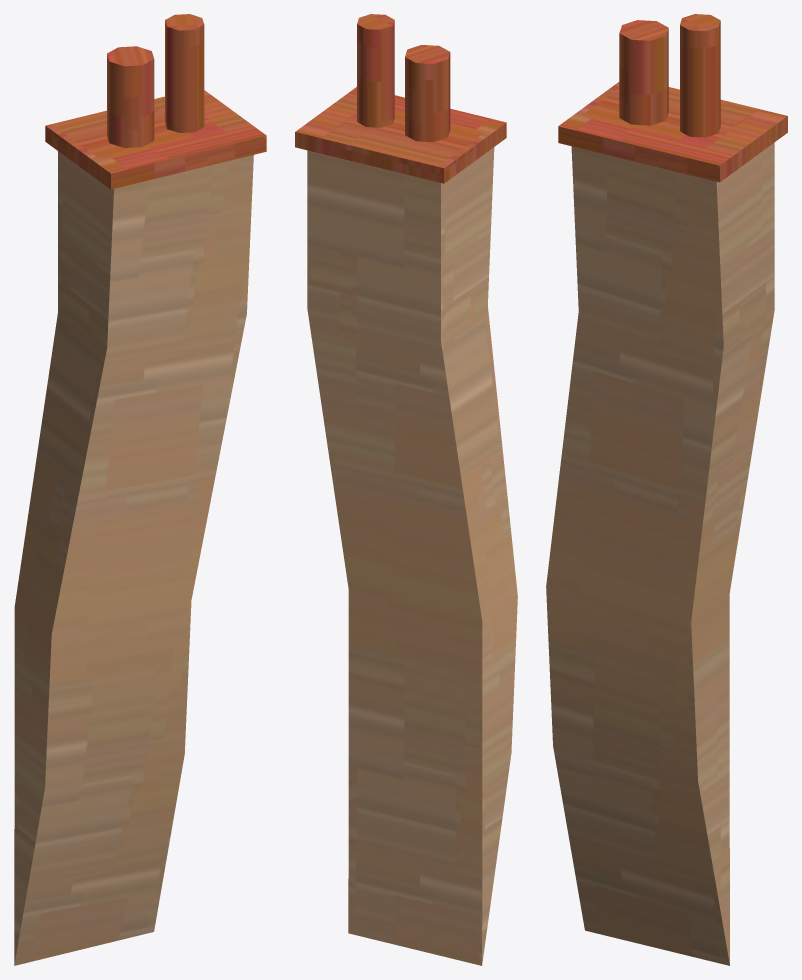
Rendered from Chimney_02.fbx.
3 views of the same model, side by side, from view 1: azimuth 30°, elevation 25°; view 2: azimuth 150°, elevation 25°; view 3: azimuth 330°, elevation 25° (orthographic). The views are drawn at different scales.
Visible parts, largest first — view 1: Chimney_02; view 2: Chimney_02; view 3: Chimney_02.
Part boxes in pixels (x1,y1,x2,y2): Chimney_02: (14, 14, 266, 965); Chimney_02: (295, 14, 517, 965); Chimney_02: (546, 14, 787, 965).
Size of the model in its own units: 157 by 730 by 93.14.
Materials: 2 (2 with a texture image).
